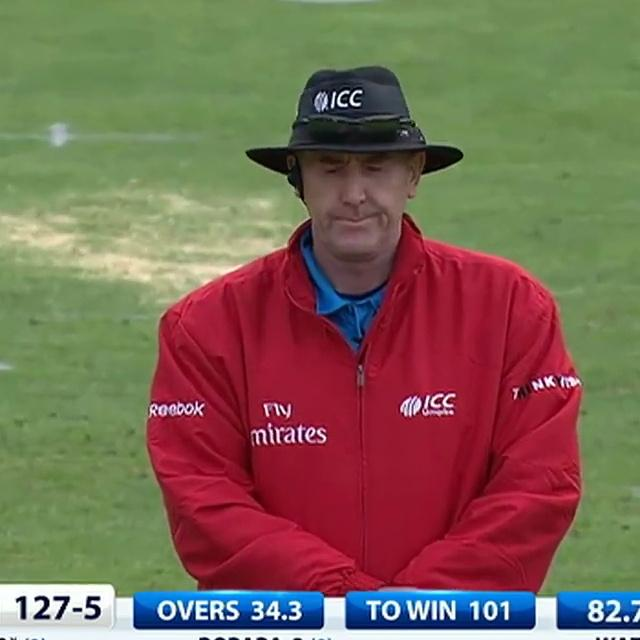umpire: (119, 34, 612, 592)
